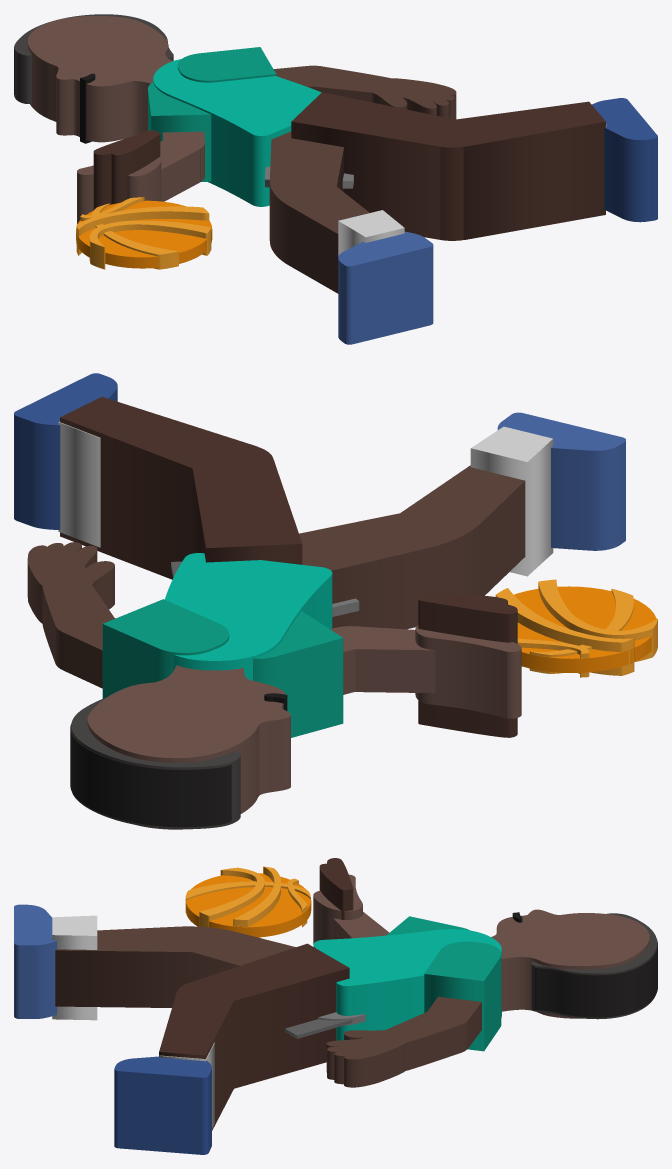
The model's file is emoji_u26f9_1f3ff_200d_2642.glb.
3 views of the same model, one above another, from view 1: azimuth 30°, elevation 25°; view 2: azimuth 150°, elevation 25°; view 3: azimuth 270°, elevation 25° (orthographic). The views are drawn at different scales.
Visible parts, largest first — view 1: emoji_u26f9_1f3ff_200d_2642; view 2: emoji_u26f9_1f3ff_200d_2642; view 3: emoji_u26f9_1f3ff_200d_2642.
Boxes of the visible parts, <box> form: emoji_u26f9_1f3ff_200d_2642: <box>14,14,657,344</box>; emoji_u26f9_1f3ff_200d_2642: <box>14,373,657,829</box>; emoji_u26f9_1f3ff_200d_2642: <box>14,858,657,1154</box>.
Size of the model in its own units: 0.0291 by 0.0052 by 0.0332.
